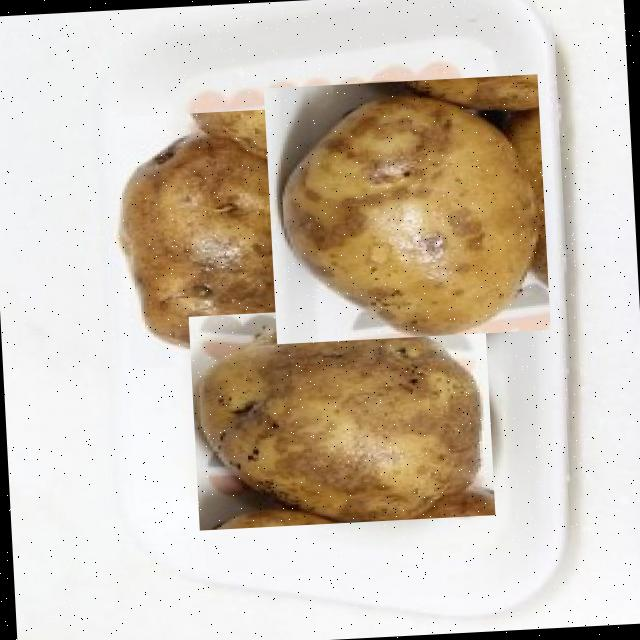Potato: (263, 74, 550, 344), (188, 302, 494, 530), (103, 108, 320, 370)
